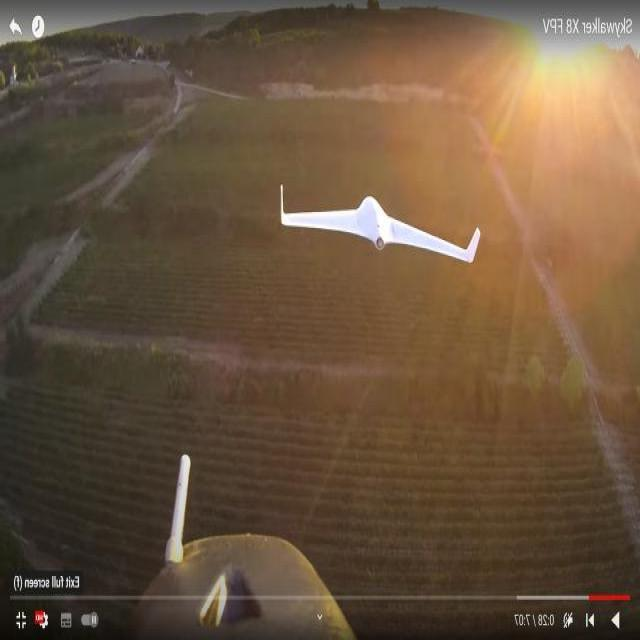UAV: (259, 179, 467, 257)
